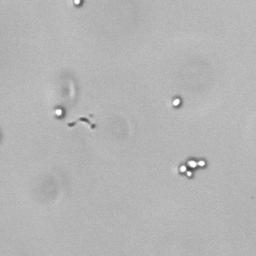cluster: (177, 157, 209, 180)
individual: (52, 105, 65, 118), (171, 96, 182, 108), (71, 1, 84, 7)
